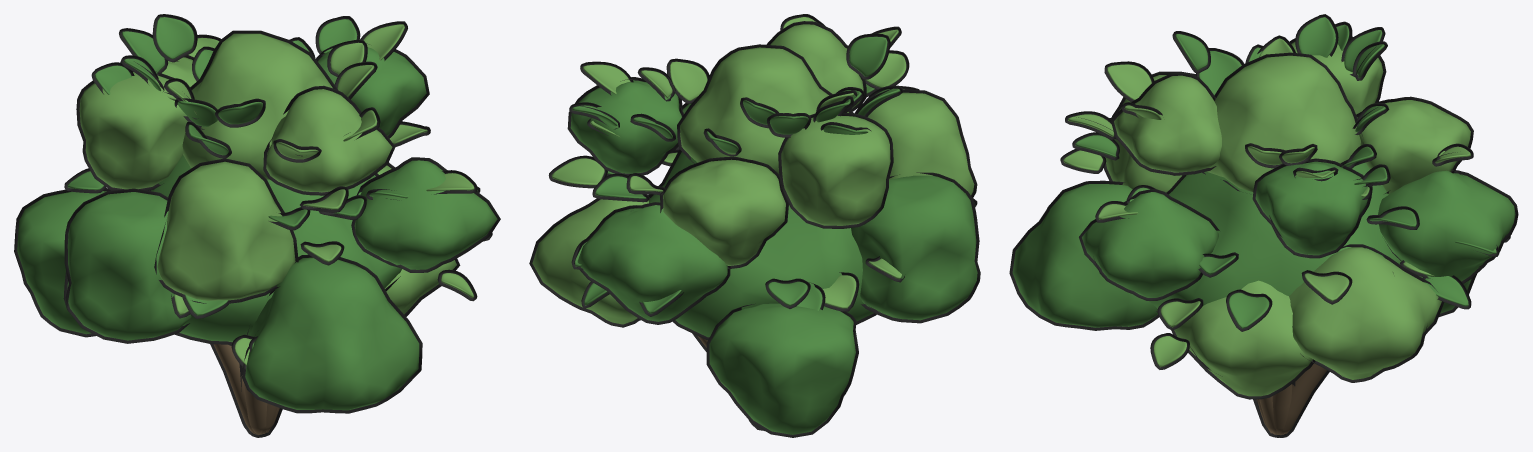
File: bush.fbx
The picture shows the model from 3 angles, left to right: view 1: azimuth 30°, elevation 25°; view 2: azimuth 150°, elevation 25°; view 3: azimuth 270°, elevation 25°; orthographic projection. The views are drawn at different scales.
Parts seen in each view (by area): view 1: Bush_FoliageDark, Bush_FoliageLight, Bush_Stems; view 2: Bush_FoliageDark, Bush_FoliageLight; view 3: Bush_FoliageLight, Bush_FoliageDark, Bush_Stems.
Part boxes in pixels (x1=…): Bush_FoliageDark: x1=14, y1=14, x2=500, y2=413; Bush_FoliageLight: x1=76, y1=21, x2=492, y2=369; Bush_Stems: x1=210, y1=341, x2=282, y2=437; Bush_FoliageDark: x1=567, y1=33, x2=980, y2=437; Bush_FoliageLight: x1=529, y1=14, x2=977, y2=327; Bush_FoliageLight: x1=1060, y1=35, x2=1473, y2=399; Bush_FoliageDark: x1=1009, y1=14, x2=1518, y2=331; Bush_Stems: x1=1253, y1=363, x2=1329, y2=437.
Size of the model in its own units: 187 by 172 by 212.
